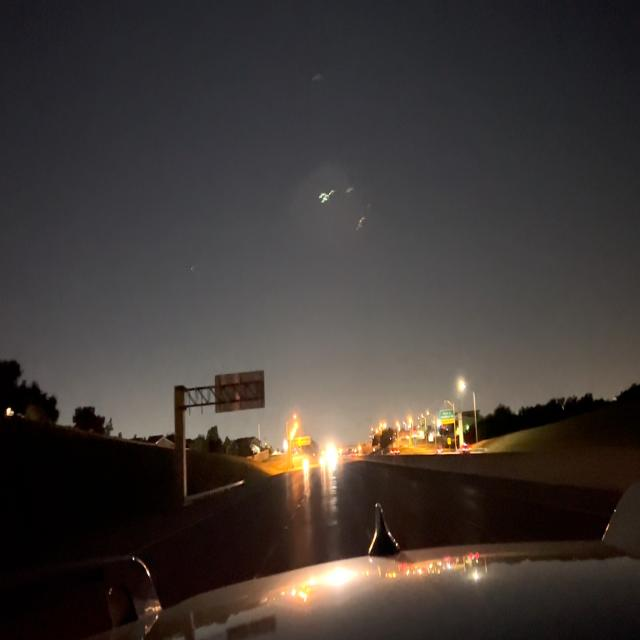back-of-sign: (213, 372, 268, 413)
